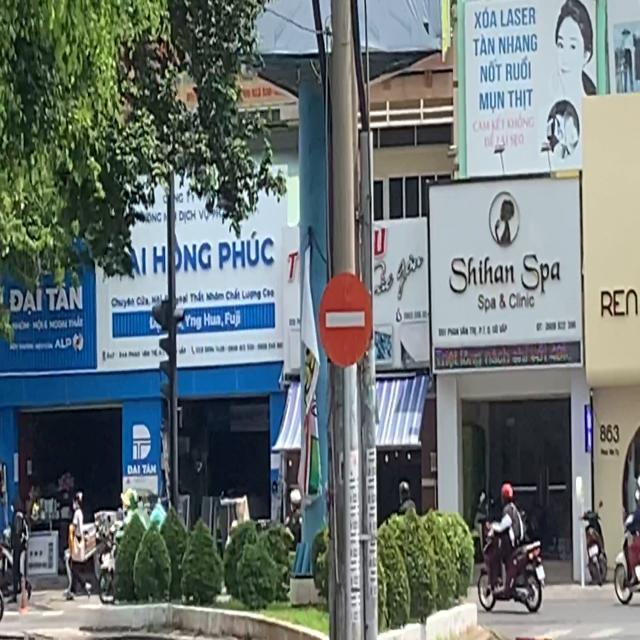Cam nguoc chieu: (316, 269, 374, 374)
